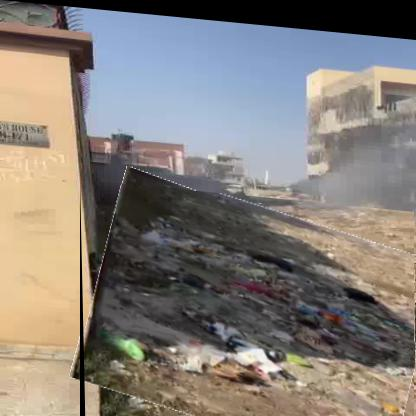Garbage: (81, 179, 416, 416)
